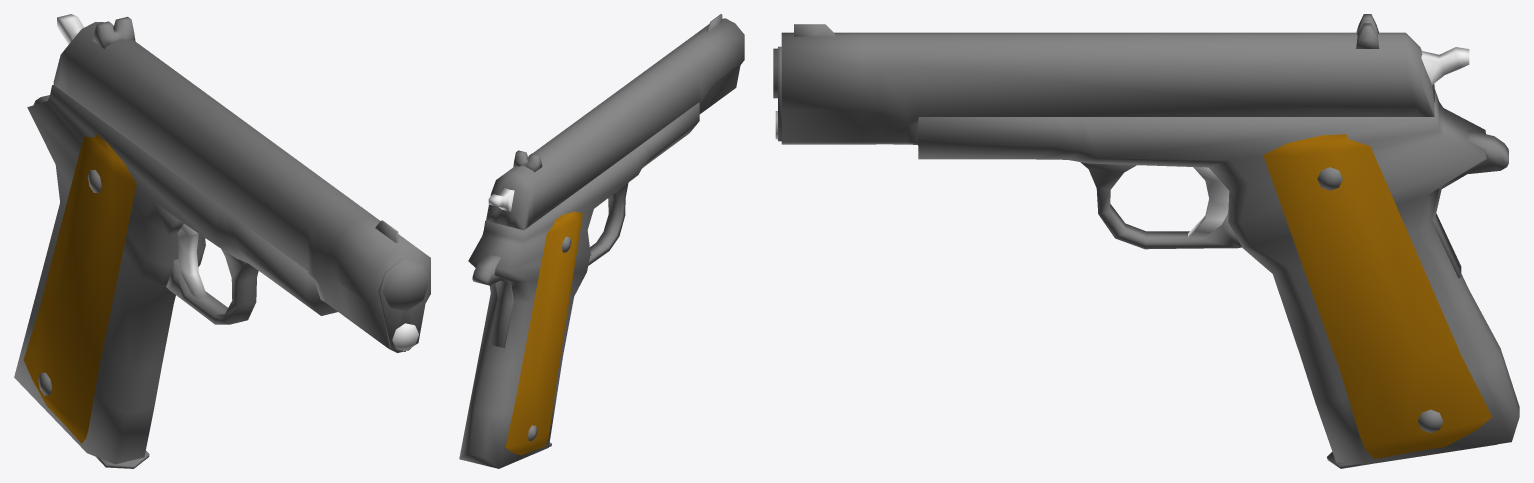
3 views of the same model, side by side, from view 1: azimuth 30°, elevation 25°; view 2: azimuth 150°, elevation 25°; view 3: azimuth 270°, elevation 25° (orthographic). The views are drawn at different scales.
Parts seen in each view (by area): view 1: Cube; view 2: Cube; view 3: Cube.
Boxes of the visible parts, bbox=[...] form: Cube: bbox=[14, 14, 430, 468]; Cube: bbox=[459, 14, 744, 468]; Cube: bbox=[773, 14, 1519, 468].
Size of the model in its own units: 1.22 by 5.99 by 9.23.
